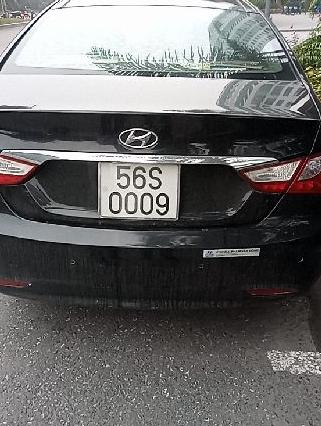Plate-iWeP: (99, 156, 181, 217)
